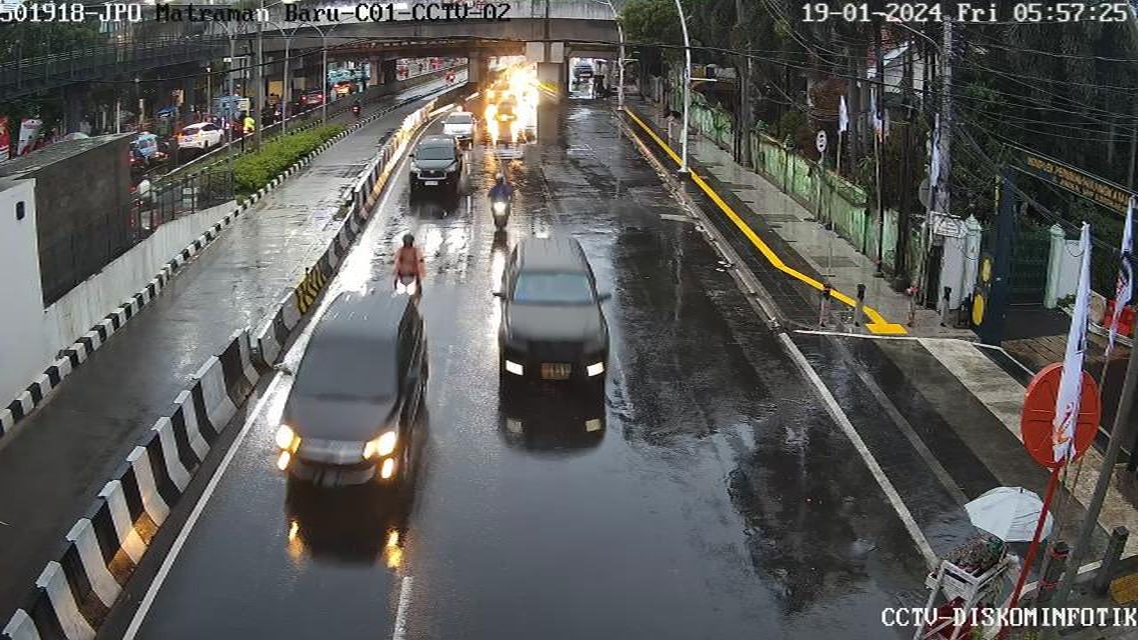Gerobak: (903, 534, 1047, 634)
